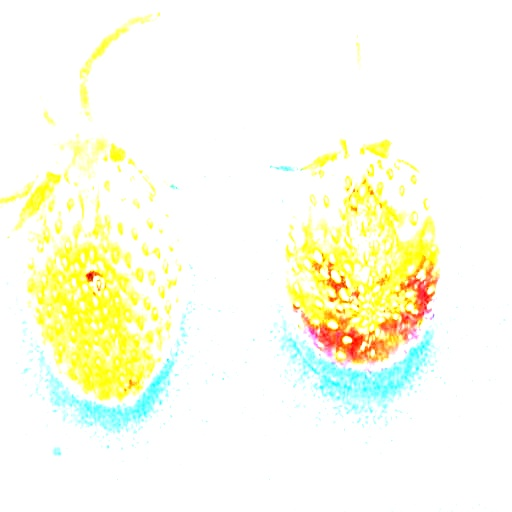Anthracnose Fruit Rot: (282, 157, 422, 338), (55, 235, 140, 330)
